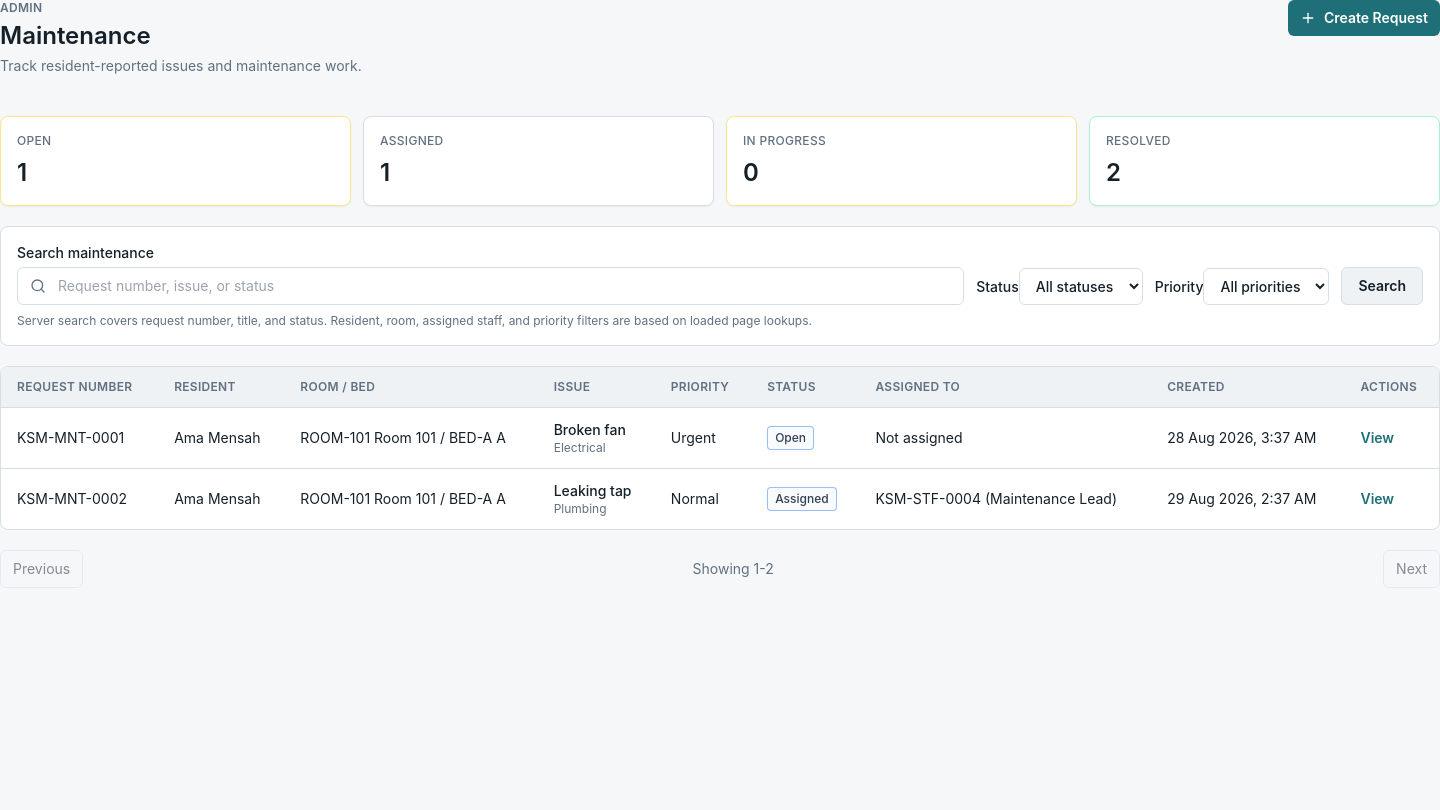
Test: MaintenancePage › renders maintenance detail with resident and stored placement context
Expected: the text "KSM-MNT-0001" is shown, [1,408,158,468]
Click the button "View" in the row of "KSM-MNT-0001" at (1377, 438), box [1360,428,1394,448]
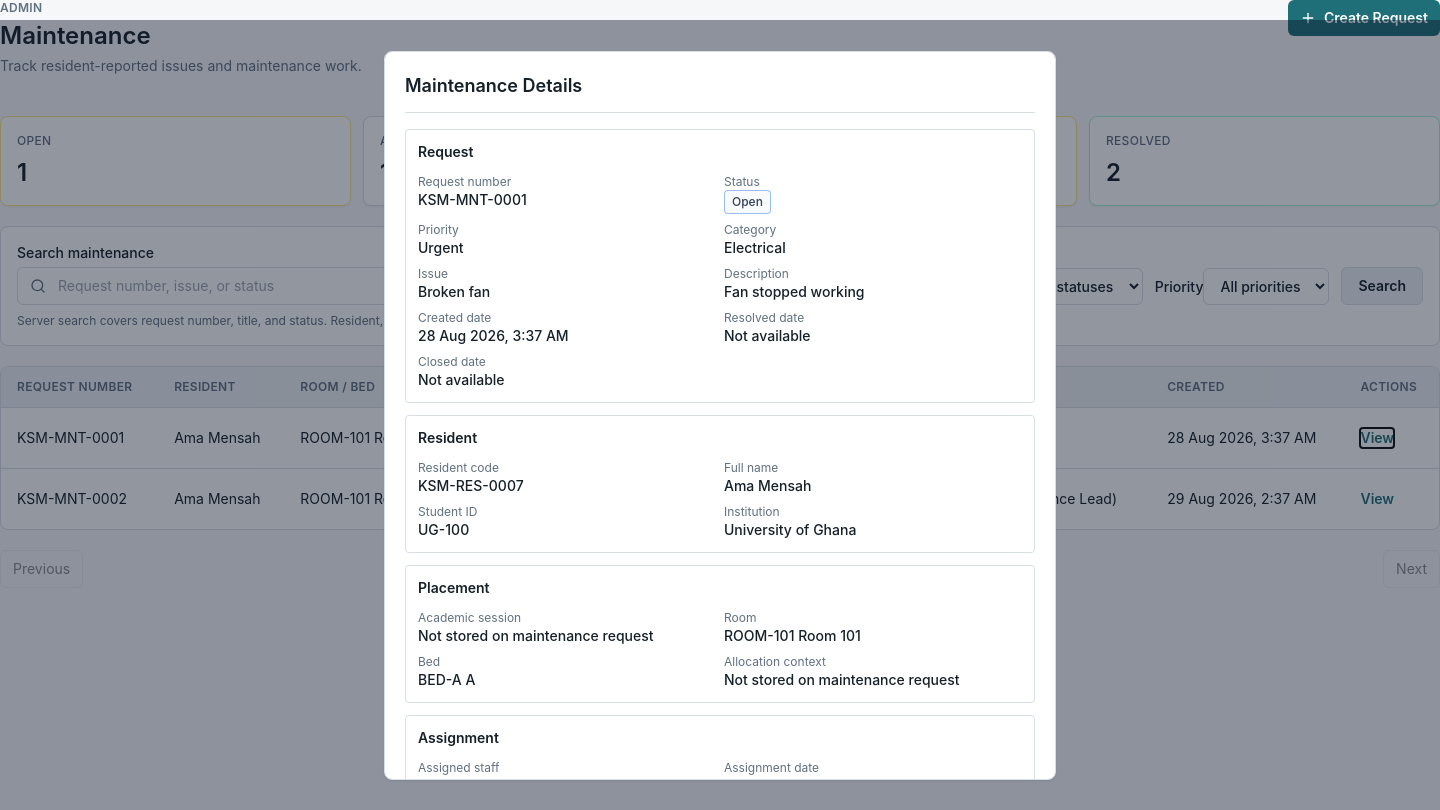
Now the heading "Request" is shown, box [418,142,474,160]
Now the text "KSM-RES-0007" is shown, box [418,476,524,494]
Now the text "University of Ghana" is shown, box [724,520,856,538]
